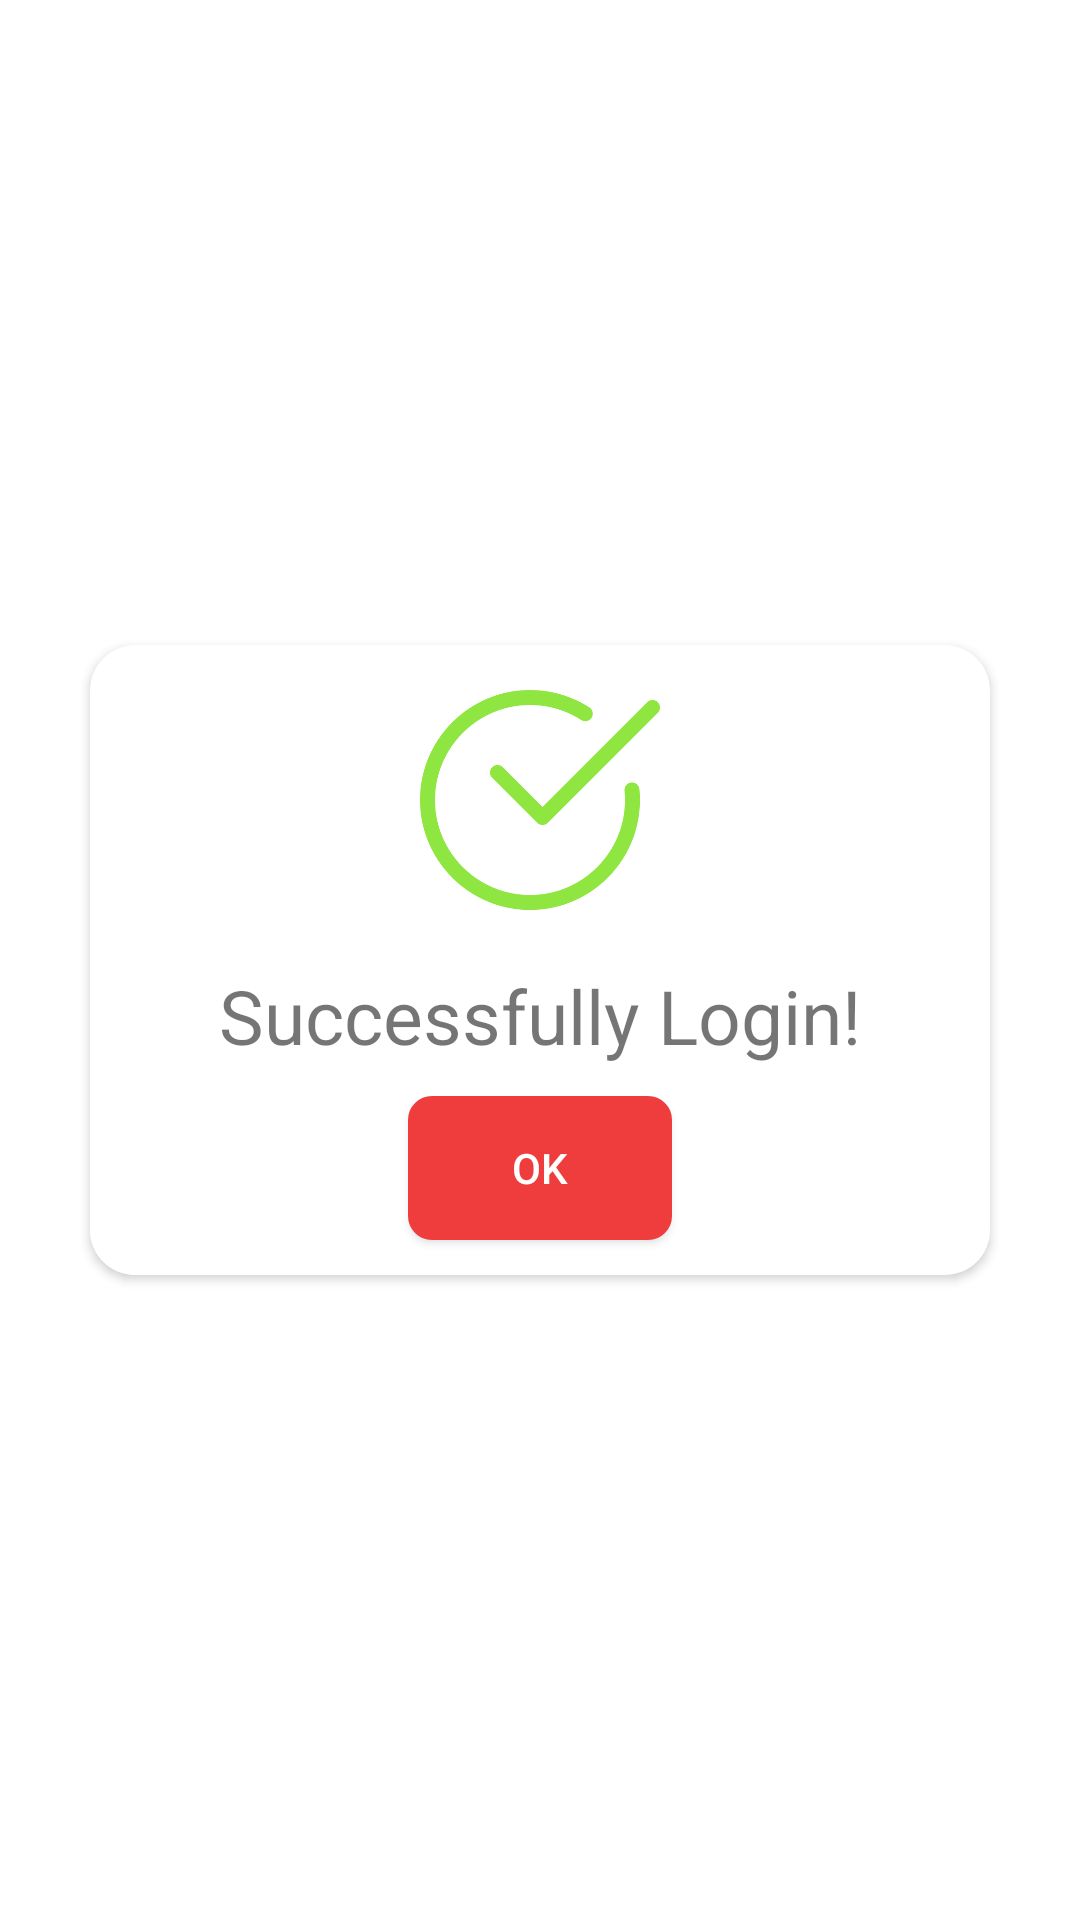

Where icons sit on this 1080×1920 app screen, as (x1,y1,x2,y2):
checkmark: (420,690,660,910)
